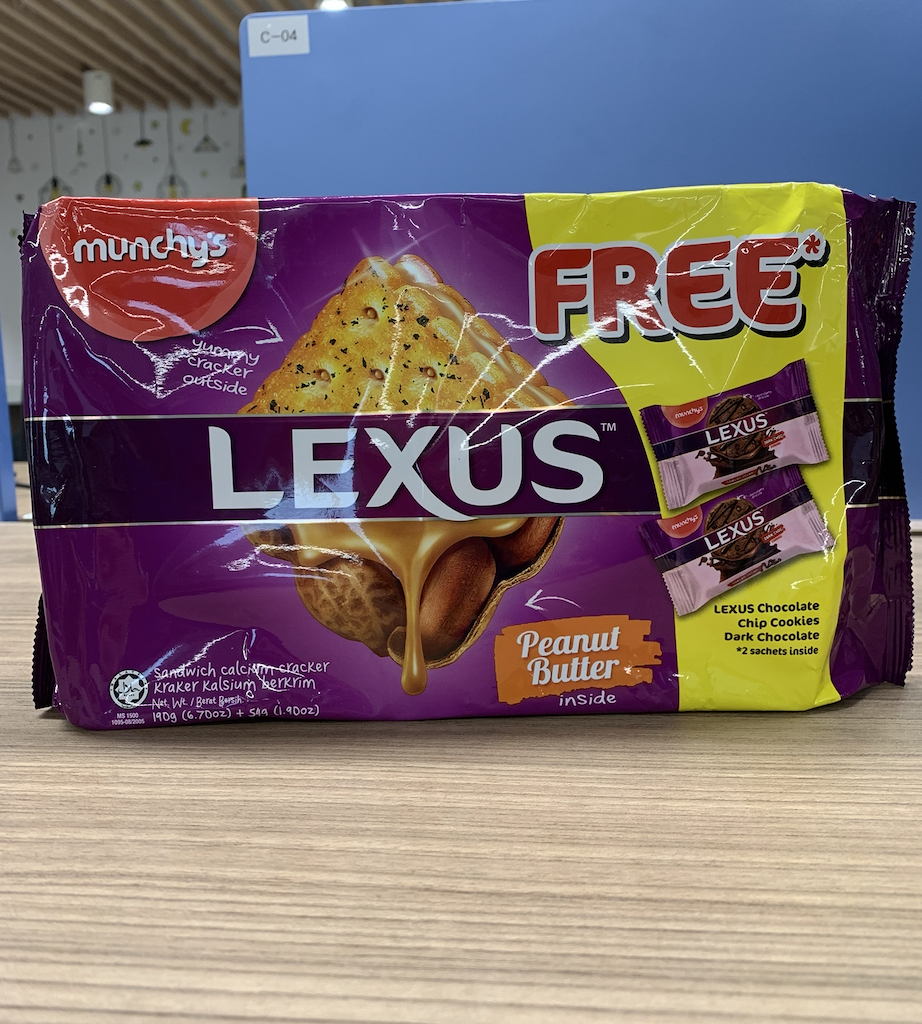cookies_150g: (49, 207, 862, 708)
